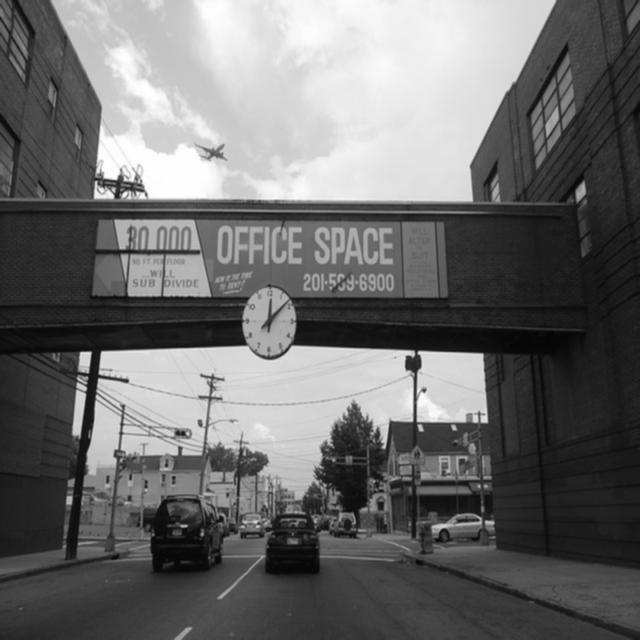car: (146, 491, 229, 566), (264, 512, 319, 572), (430, 512, 493, 540), (333, 511, 354, 541), (238, 512, 263, 537), (319, 513, 332, 528), (227, 516, 237, 532), (328, 515, 336, 533)
